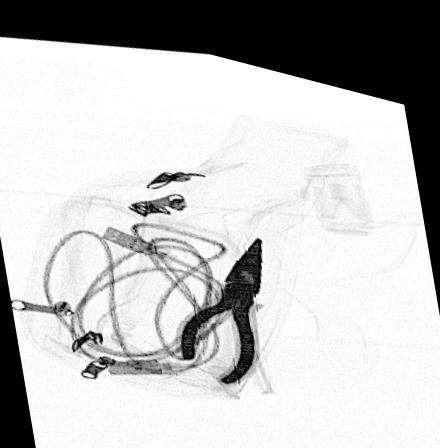Pliers: (173, 222, 267, 373)
